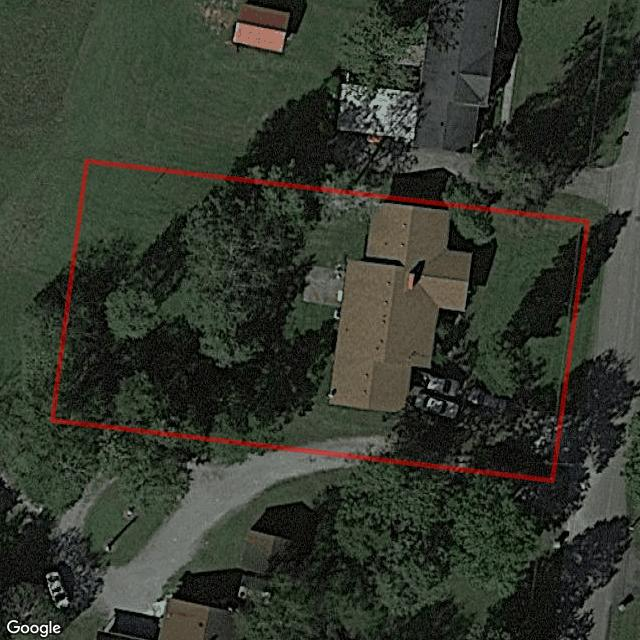Driveway: (408, 372, 555, 458)
Extra Driveway: (559, 423, 589, 464)
Extra Lawn: (564, 223, 616, 422)
House: (328, 202, 472, 416)
Other: (303, 263, 345, 307)
